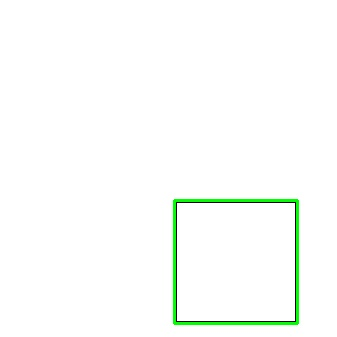line_segment: (173, 199, 299, 325)
